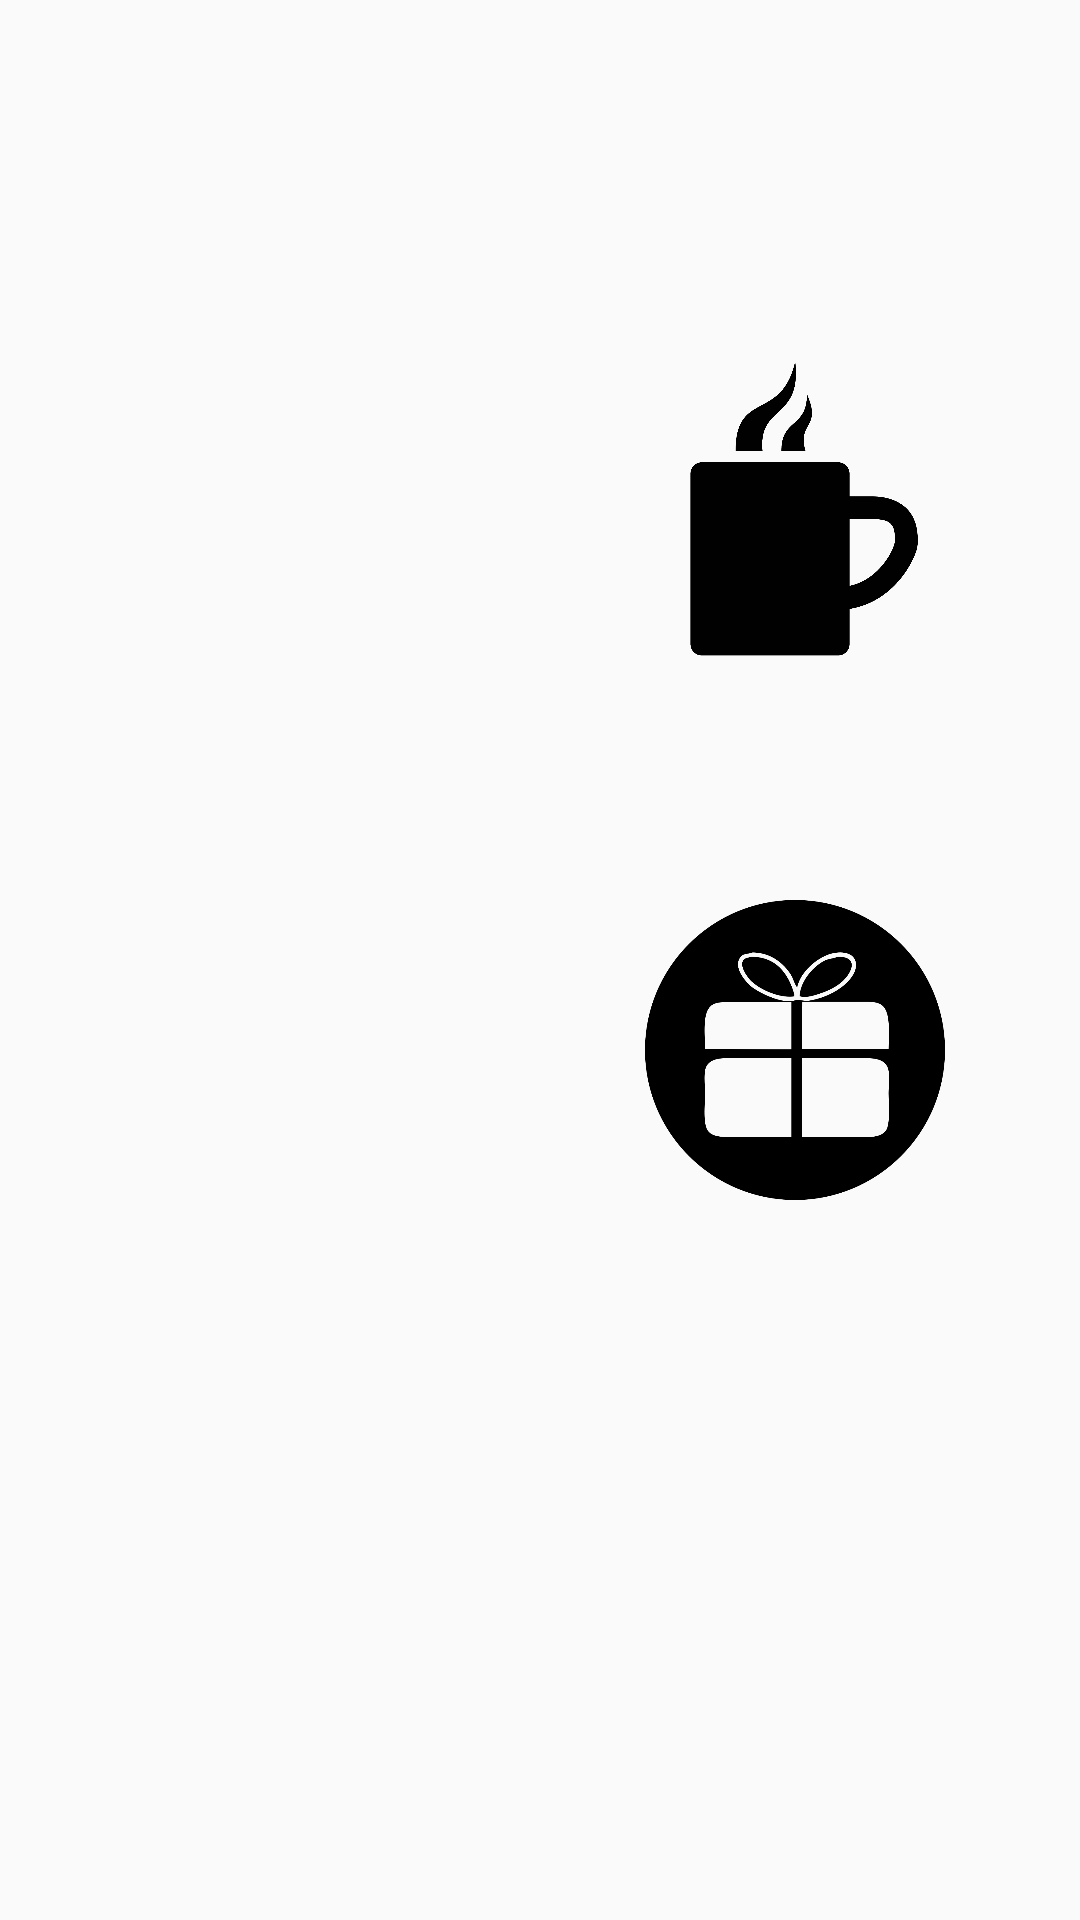

Named icons in this screenshot (1080w x 1920h) and their bounding boxes, detection(x1, y1, x2, y2):
mug: detection(690, 363, 918, 656)
